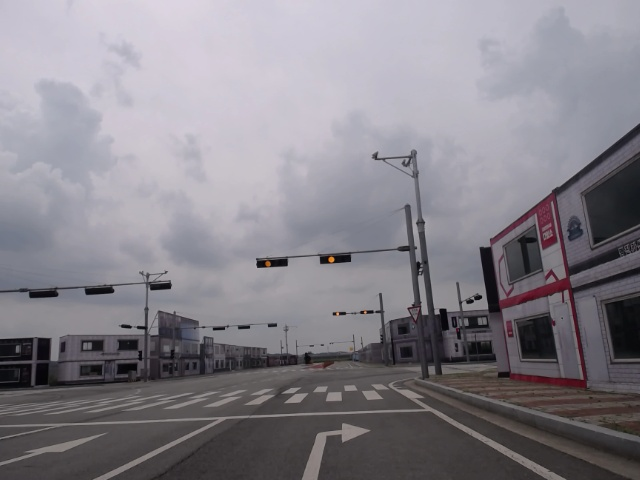orange_4: (256, 256, 291, 268), (318, 253, 352, 264), (357, 308, 377, 316), (331, 310, 349, 317)
